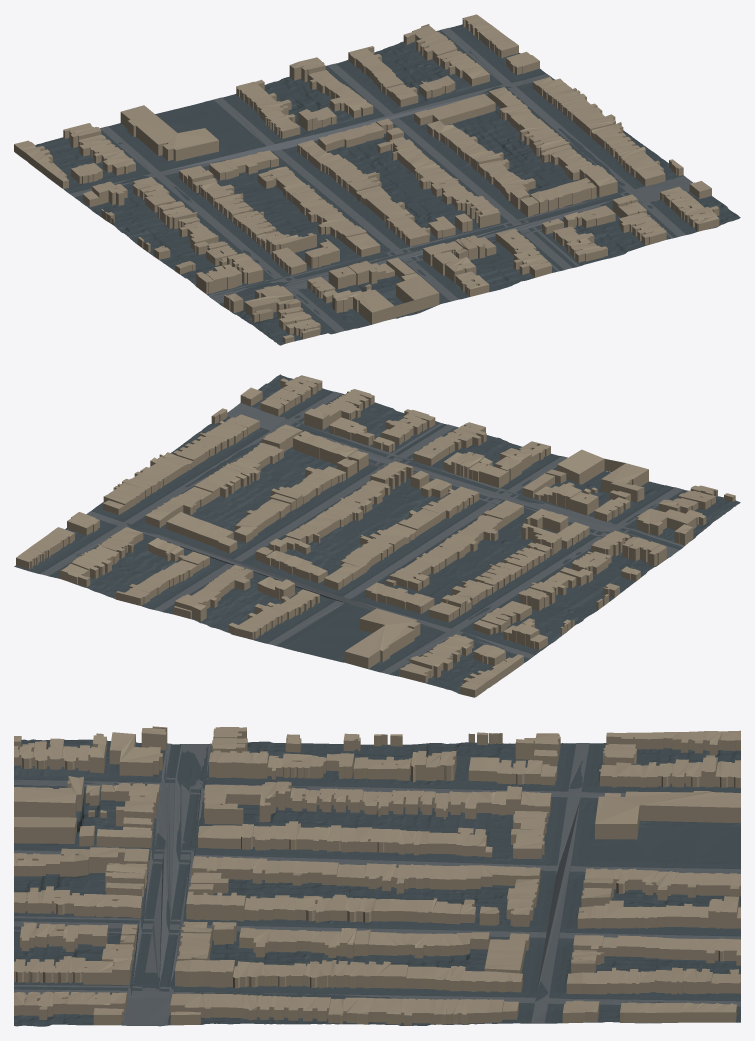
File: epsg26910-1416-10883.lod0.glb
The picture shows the model from 3 angles, top to bottom: view 1: azimuth 30°, elevation 25°; view 2: azimuth 150°, elevation 25°; view 3: azimuth 270°, elevation 25°; orthographic projection. The views are drawn at different scales.
Parts seen in each view (by area): view 1: epsg26910-1416-10883-lod0; view 2: epsg26910-1416-10883-lod0; view 3: epsg26910-1416-10883-lod0.
Part boxes in pixels (x1,y1,x2,y2): epsg26910-1416-10883-lod0: (14, 14, 740, 345); epsg26910-1416-10883-lod0: (14, 374, 740, 697); epsg26910-1416-10883-lod0: (14, 726, 740, 1026).
Bounding box in the file's own units: 384 × 23.36 × 384.
